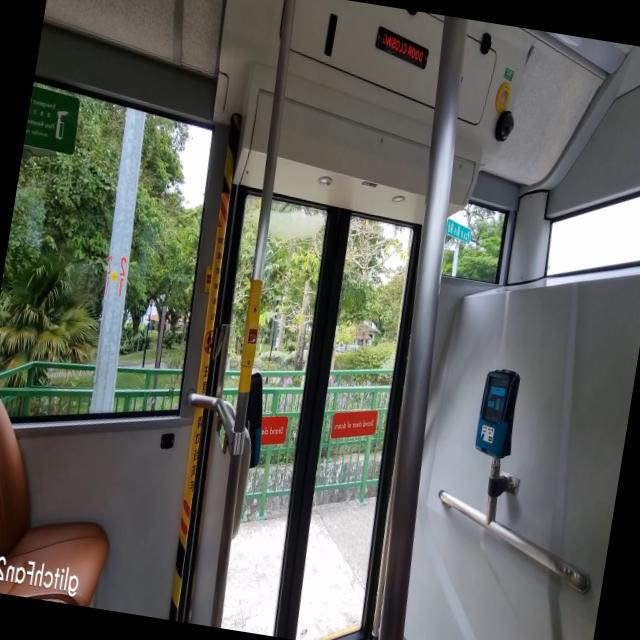bus-door: (222, 198, 419, 640), (223, 192, 260, 403)
